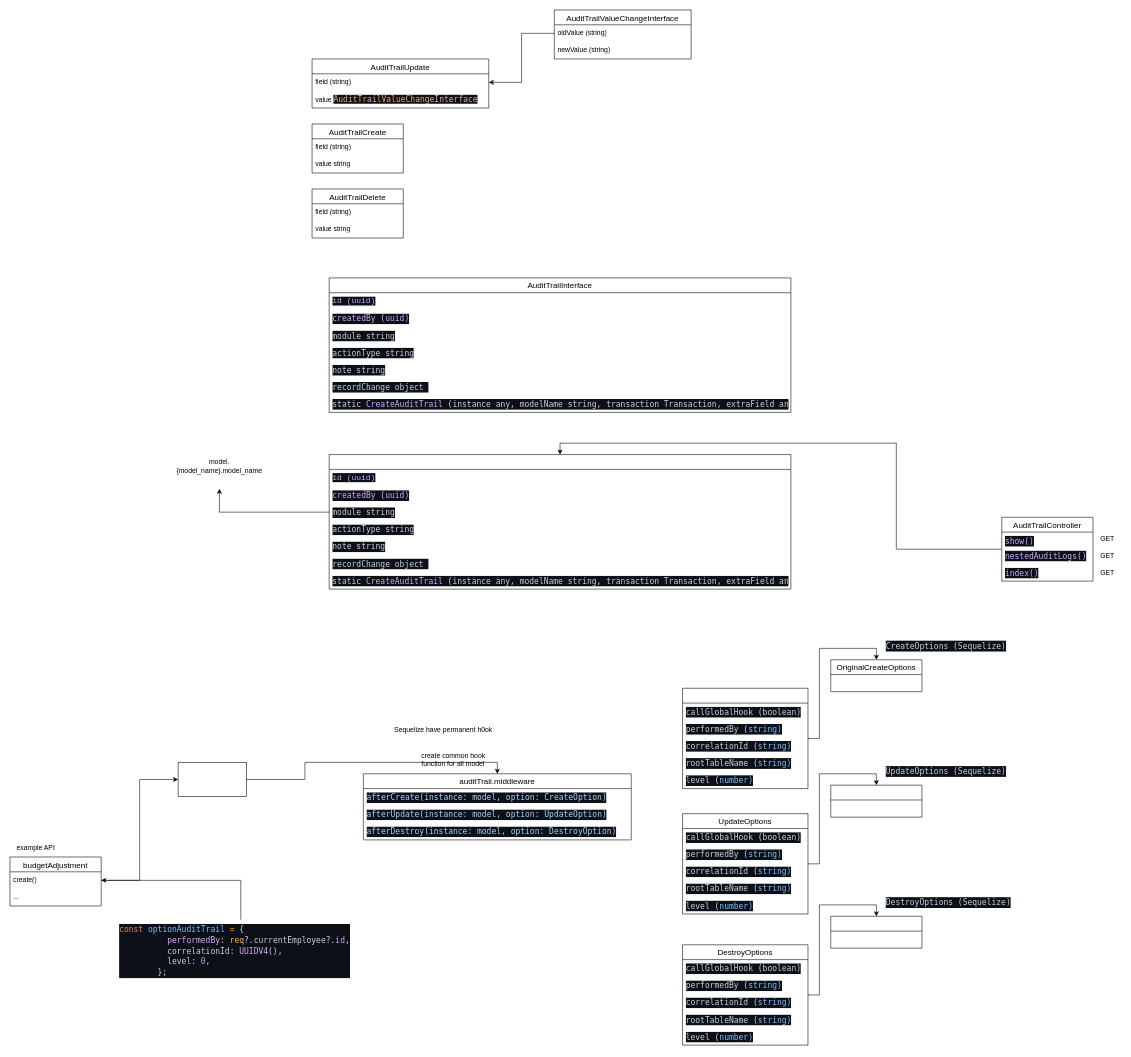
This 1131x1057 diagram has some shape labels left out. The box of each missing label's shape, as (x1, y1, x2, y2) in pixels:
AuditTrailModel: (329, 454, 791, 589)
CreateOptions: (682, 688, 808, 789)
Middleware: (178, 762, 247, 797)
OriginalDestroyOptions: (830, 916, 922, 948)
OriginalUpdateOptions: (830, 785, 922, 817)
